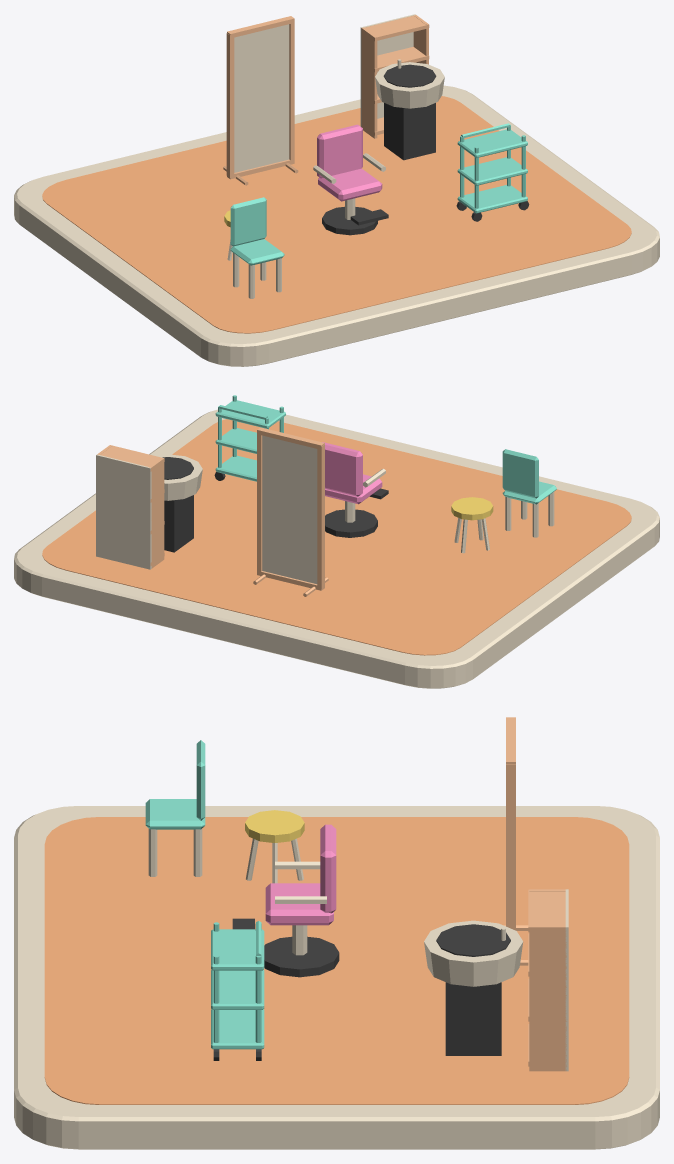
3 views of the same model, one above another, from view 1: azimuth 30°, elevation 25°; view 2: azimuth 150°, elevation 25°; view 3: azimuth 270°, elevation 25° (orthographic). The views are drawn at different scales.
Visible parts, largest first — view 1: COM-02 Floor Surface, COM-01 Rounded Base Direct, Mirror face, Pedestal, Back, Bowl, Backrest, Side, Seat, Frame, Tray.002, Tray (+9 smaller); view 2: COM-02 Floor Surface, COM-01 Rounded Base Direct, Mirror face, Back.001, Back, Backrest, Pedestal, Side, Base, Frame, Bowl, Tray.002 (+9 smaller); view 3: COM-02 Floor Surface, COM-01 Rounded Base Direct, Side.001, Pedestal, Bowl, Base, Seat, Tray.002, Inset, Tray, Tray.001, Seat.002 (+6 smaller).
Boxes of the visible parts, x1,y1,x2,y2 form: COM-02 Floor Surface: [42, 96, 631, 333]; COM-01 Rounded Base Direct: [14, 85, 659, 366]; Mirror face: [234, 24, 289, 172]; Pedestal: [384, 103, 435, 160]; Back: [317, 124, 362, 178]; Bowl: [375, 62, 444, 108]; Backrest: [230, 197, 266, 246]; Side: [361, 27, 377, 138]; Seat: [318, 168, 382, 201]; Frame: [226, 33, 234, 177]; Tray.002: [457, 129, 527, 157]; Tray: [457, 185, 527, 213]; COM-02 Floor Surface: [42, 419, 631, 655]; COM-01 Rounded Base Direct: [14, 409, 659, 688]; Mirror face: [262, 435, 317, 583]; Back.001: [96, 454, 151, 569]; Back: [322, 442, 362, 496]; Backrest: [502, 449, 538, 498]; Pedestal: [164, 495, 193, 552]; Side: [148, 457, 164, 568]; Base: [325, 509, 377, 537]; Frame: [317, 444, 324, 589]; Bowl: [155, 454, 202, 500]; Tray.002: [215, 400, 285, 428]; COM-02 Floor Surface: [44, 817, 629, 1104]; COM-01 Rounded Base Direct: [14, 806, 659, 1149]; Side.001: [529, 925, 566, 1071]; Pedestal: [445, 982, 501, 1055]; Bowl: [424, 920, 523, 986]; Base: [264, 936, 339, 977]; Seat: [265, 883, 333, 925]; Tray.002: [211, 929, 264, 970]; Inset: [436, 924, 510, 956]; Tray: [211, 1009, 264, 1049]; Tray.001: [211, 970, 264, 1009]; Seat.002: [145, 799, 205, 829].
Size of the model in its own units: 6 by 2.16 by 5.2.
Materials: 1 (1 with a texture image).
